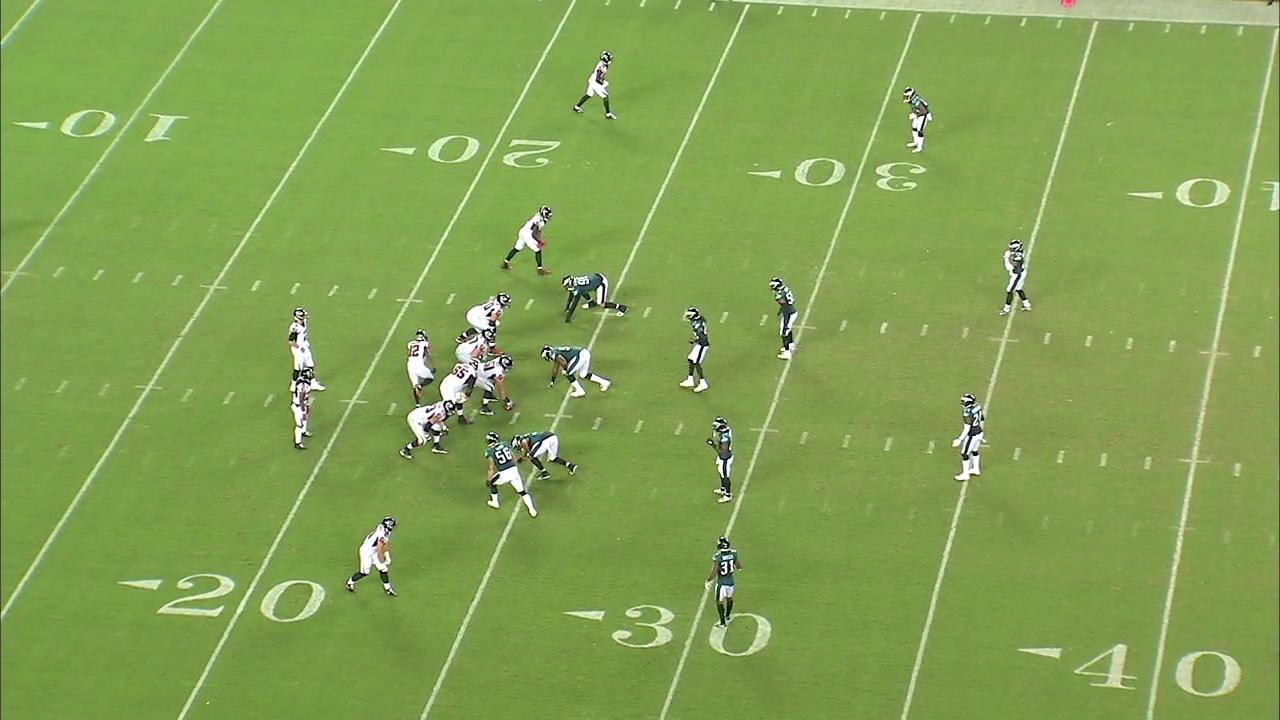defense: (482, 431, 539, 521), (539, 343, 615, 399), (703, 536, 744, 632), (947, 391, 988, 484), (561, 271, 630, 326), (509, 431, 579, 482), (996, 238, 1035, 319), (678, 306, 713, 396), (705, 416, 737, 507), (769, 276, 799, 363), (900, 84, 933, 157)
oline: (453, 290, 513, 357), (398, 398, 458, 462), (436, 359, 480, 426), (473, 353, 516, 417), (454, 328, 496, 366)
qb: (286, 304, 327, 394)
skill: (342, 515, 400, 601), (498, 201, 556, 278), (572, 50, 621, 123), (404, 326, 438, 410), (287, 367, 319, 452)
